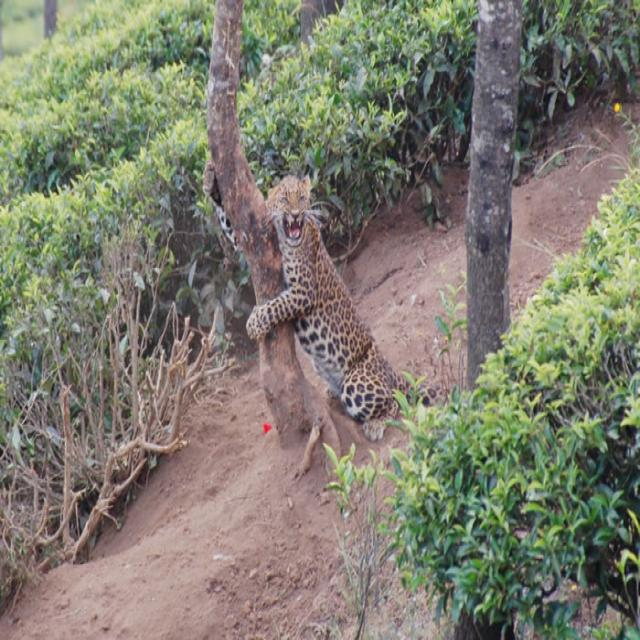Leopard: (245, 174, 410, 438)
